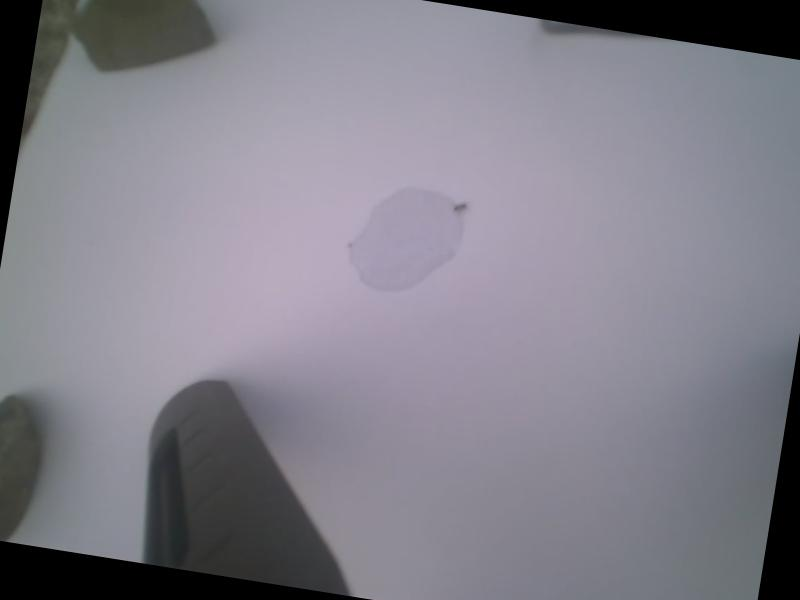Ant: (454, 202, 467, 214)
